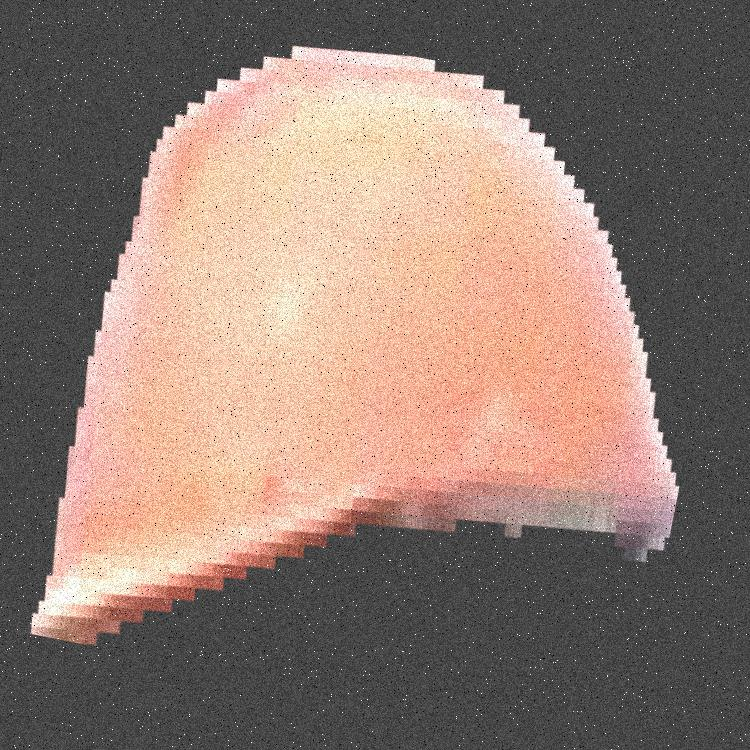Capacete: (172, 0, 499, 749)
